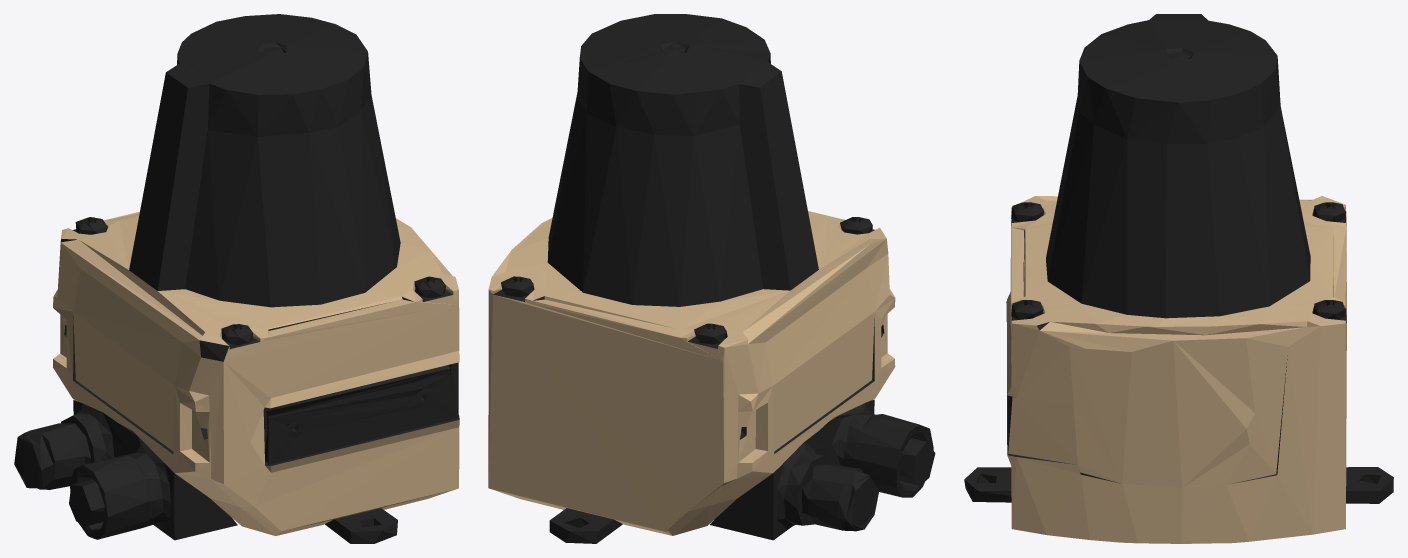
Rendered from sick_tim.dae.
The picture shows the model from 3 angles, left to right: view 1: azimuth 30°, elevation 25°; view 2: azimuth 150°, elevation 25°; view 3: azimuth 270°, elevation 25°; orthographic projection. The views are drawn at different scales.
Parts seen in each view (by area): view 1: sick_tim; view 2: sick_tim; view 3: sick_tim.
Part boxes in pixels (bbox=[...]): sick_tim: bbox=[14, 14, 459, 543]; sick_tim: bbox=[488, 14, 935, 543]; sick_tim: bbox=[964, 14, 1393, 543].
Size of the model in its own units: 0.0764 by 0.0768 by 0.0859.
